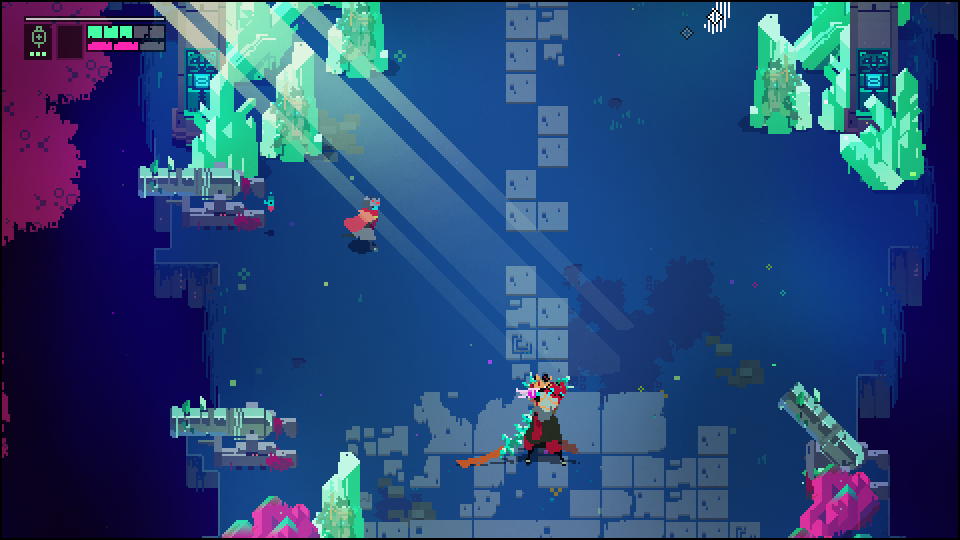hanged_man: (495, 369, 584, 471)
player: (344, 195, 383, 251)
